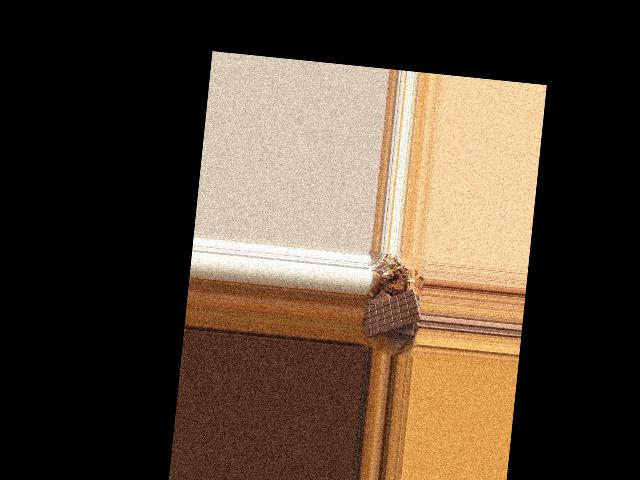chocolate: (362, 281, 423, 343)
